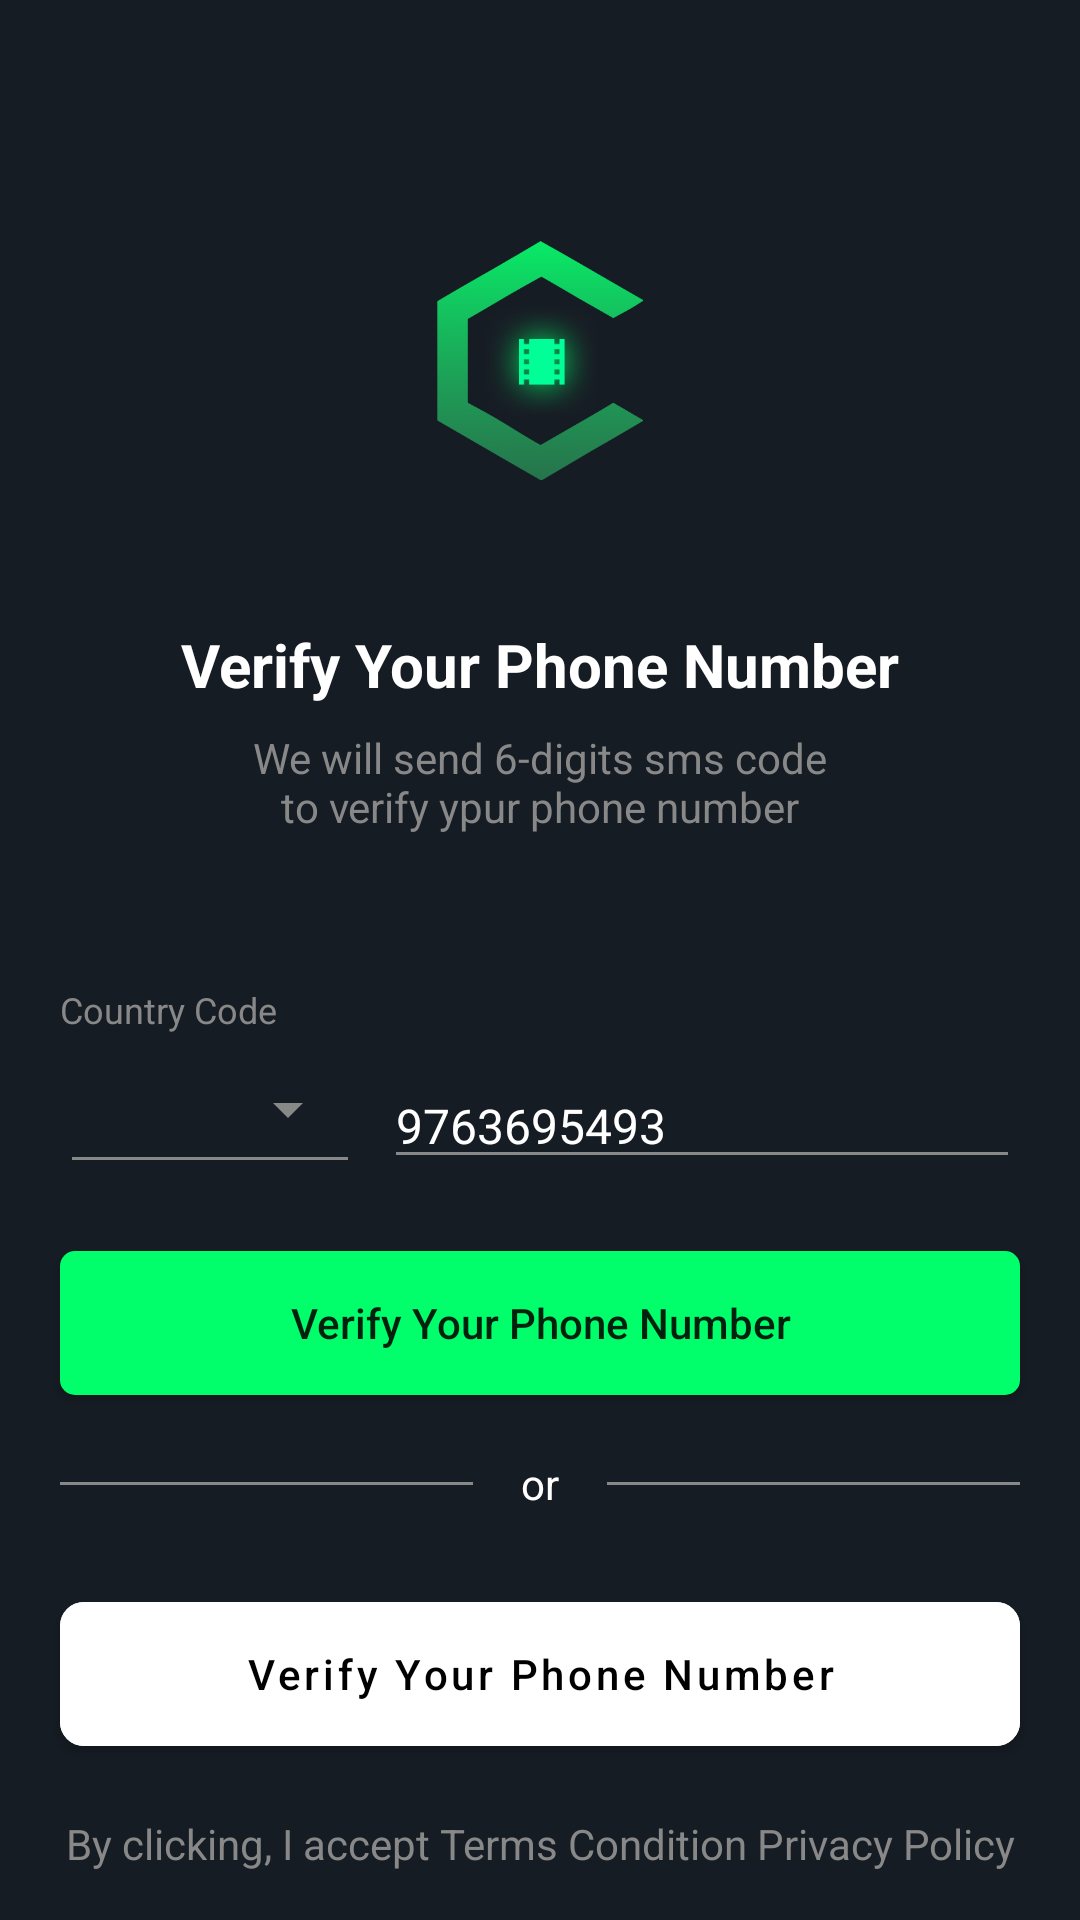

Where icons sit on this 1080×1920 app screen, as (x1, y1, x2, y2):
video: (503, 322, 581, 402)
